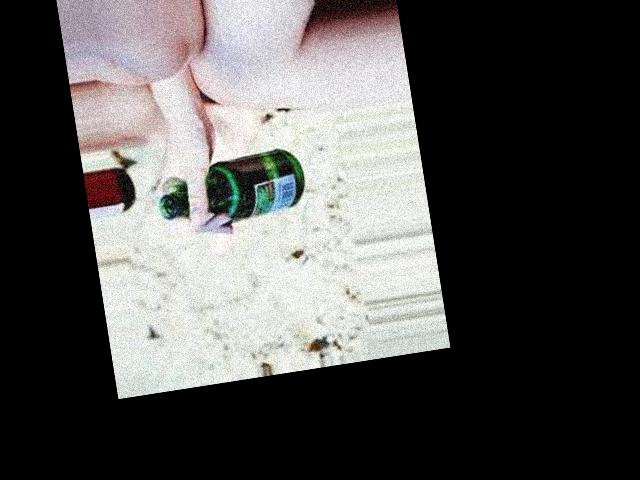beer: (152, 144, 309, 232)
